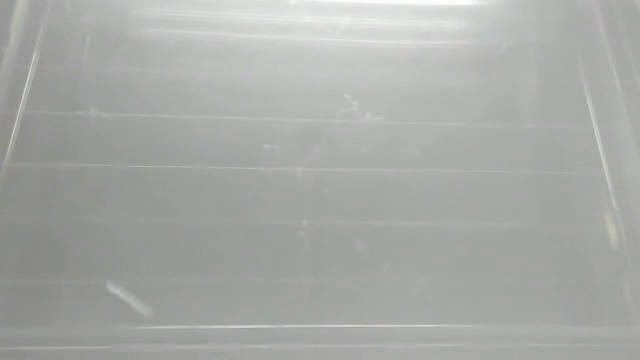alpha: (102, 277, 154, 319)
